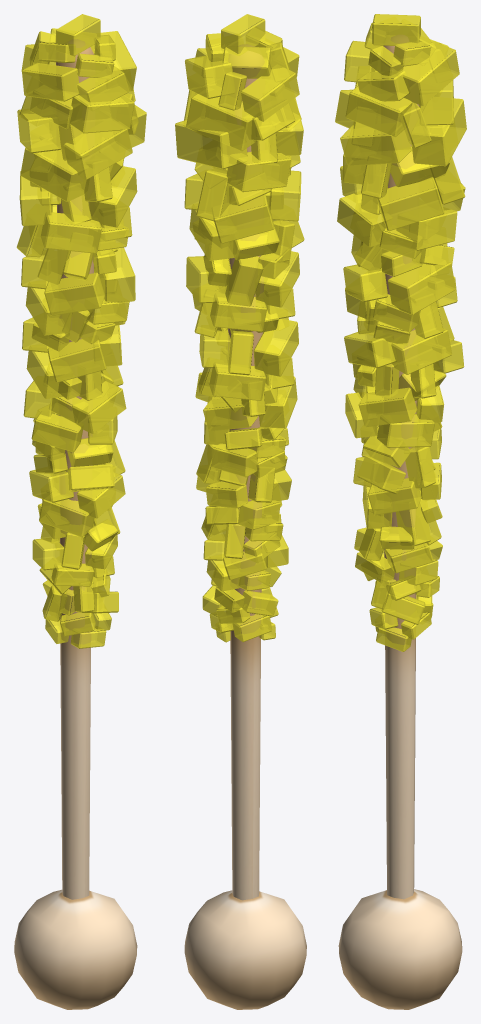
File: Pop_Rock_Candy_Yellow.FBX
The picture shows the model from 3 angles, left to right: view 1: azimuth 30°, elevation 25°; view 2: azimuth 210°, elevation 25°; view 3: azimuth 330°, elevation 25°; orthographic projection.
Visible parts, largest first — view 1: Yellow, Stick; view 2: Yellow, Stick; view 3: Yellow, Stick.
Boxes of the visible parts, x1=… form: Yellow: x1=16, y1=14, x2=146, y2=648; Stick: x1=14, y1=39, x2=137, y2=1009; Yellow: x1=175, y1=14, x2=304, y2=642; Stick: x1=184, y1=44, x2=306, y2=1009; Yellow: x1=335, y1=14, x2=466, y2=651; Stick: x1=338, y1=35, x2=462, y2=1009.
Size of the model in its own units: 12.36 by 100 by 11.79.
Materials: 2 (2 with a texture image).
